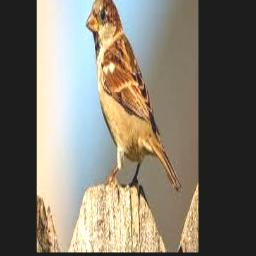Sparrow: (85, 0, 181, 191)
